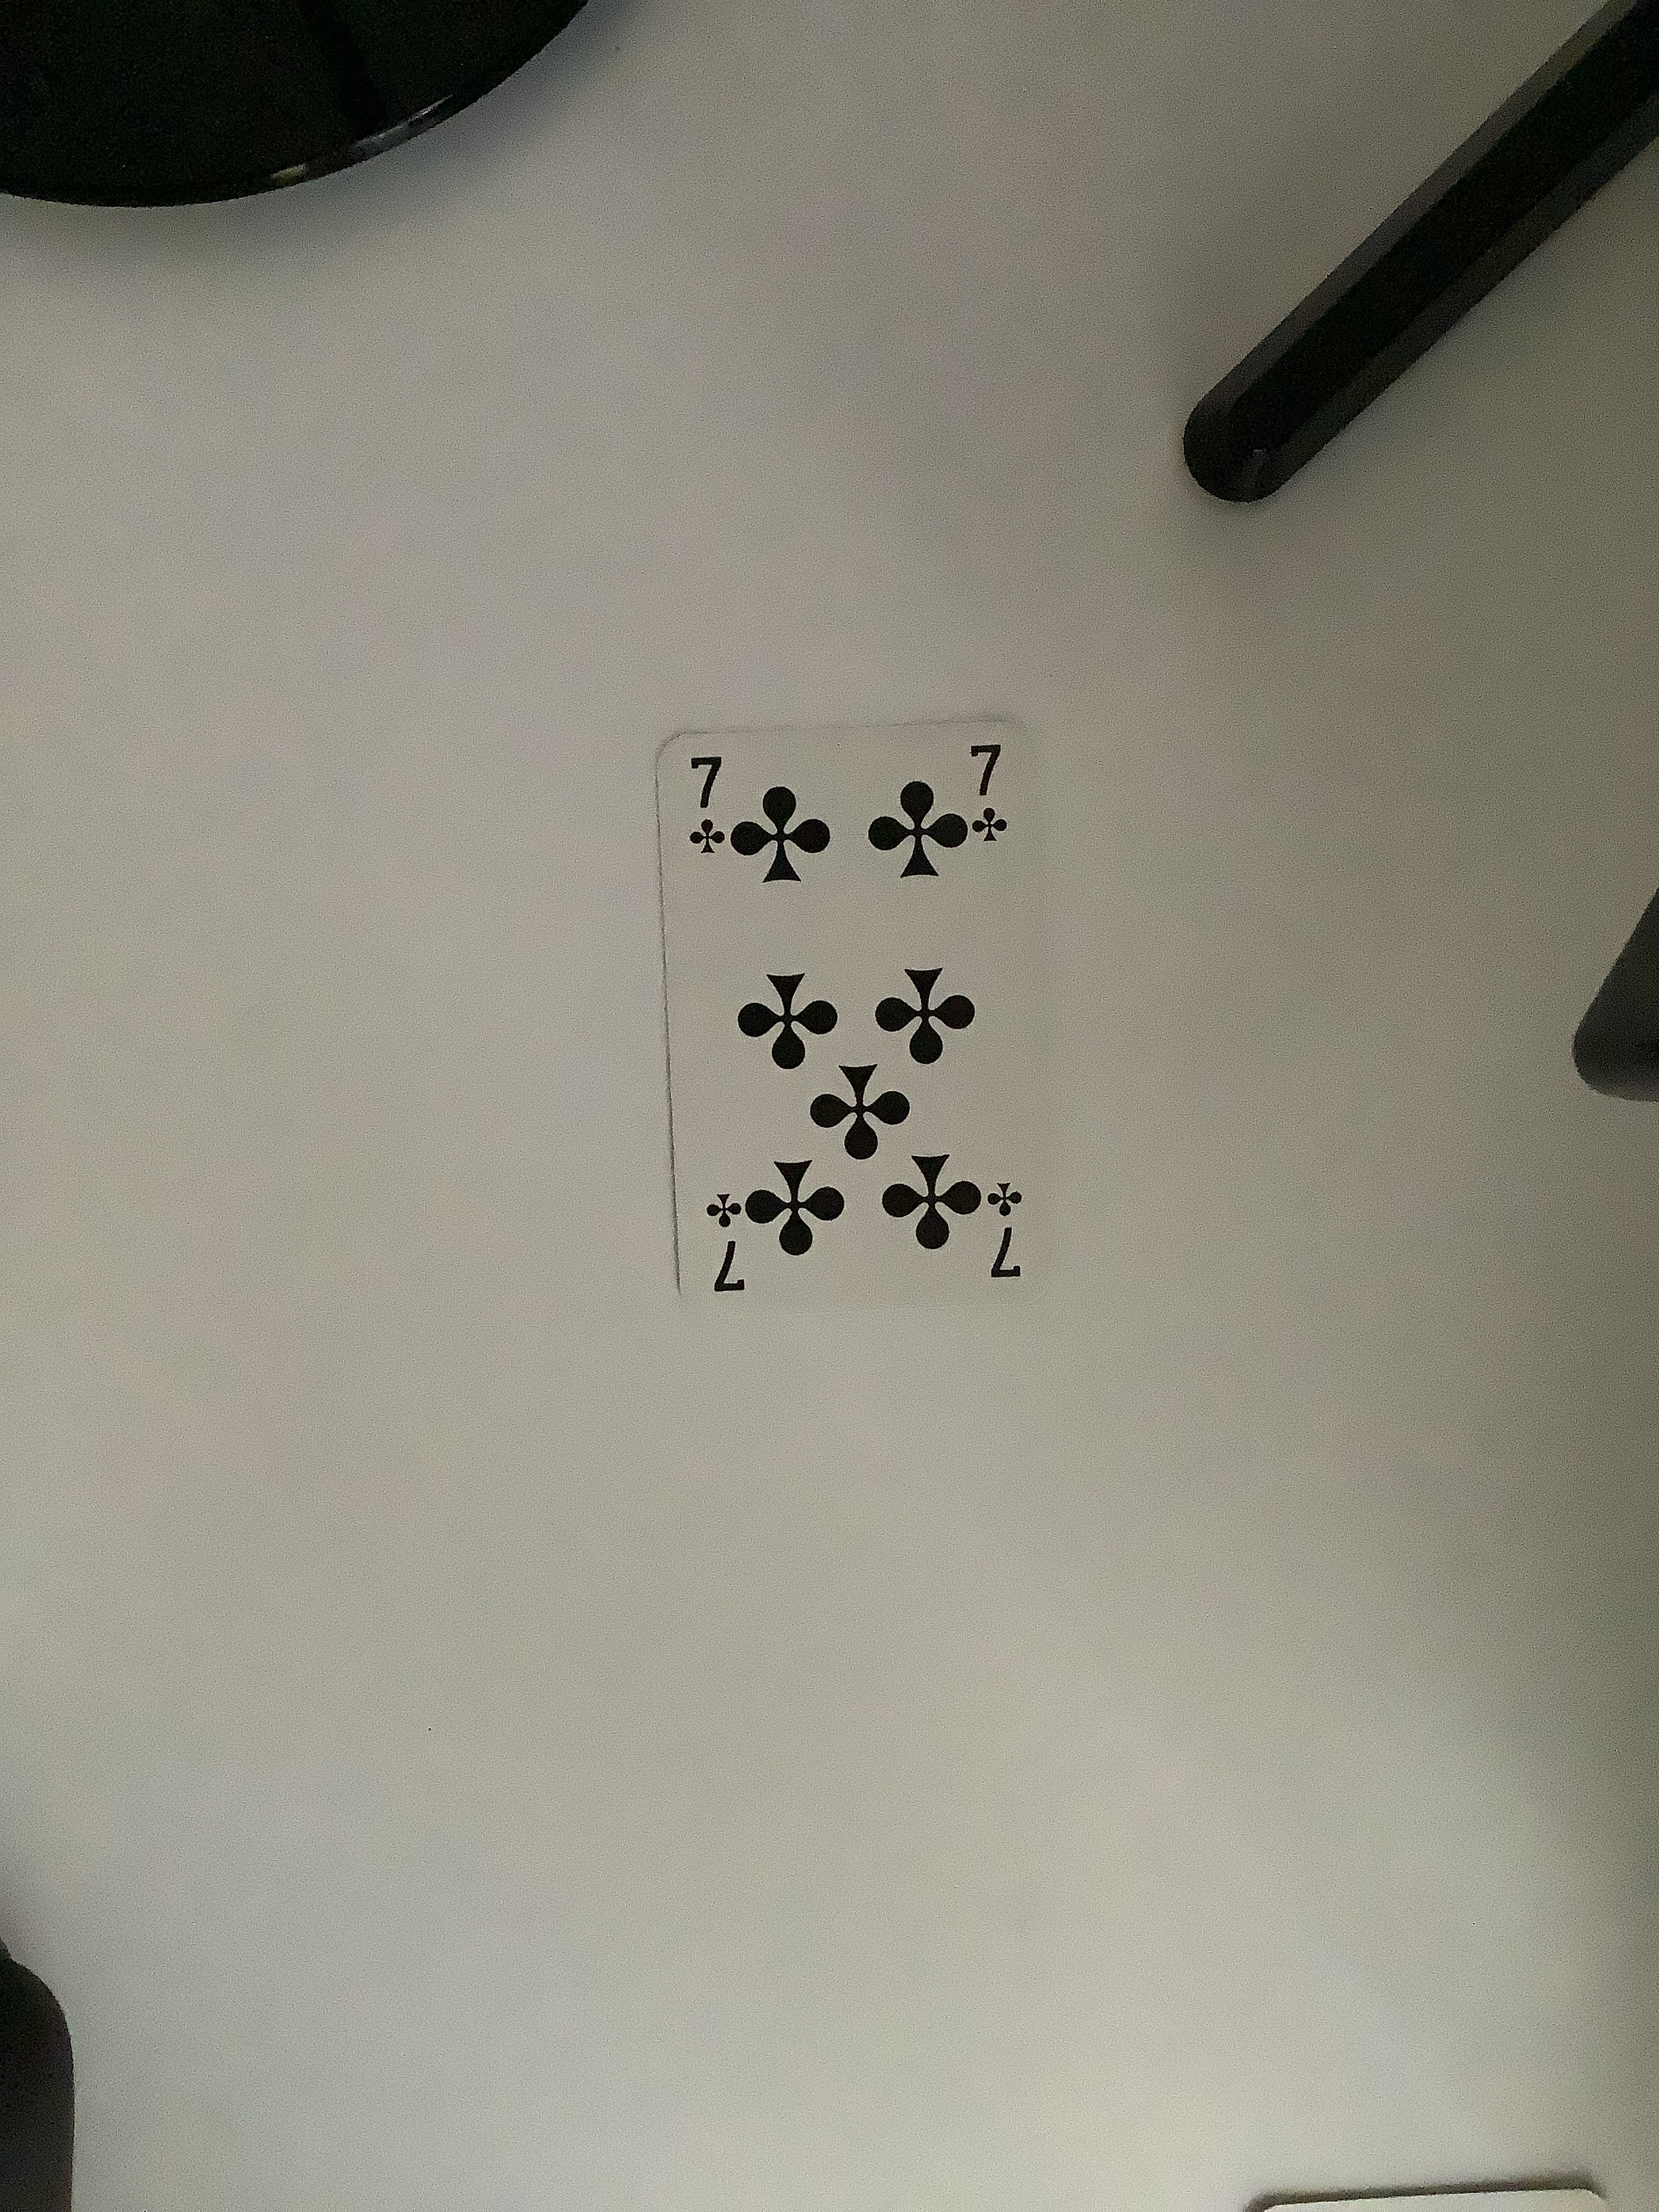♣ 7: (626, 709, 1066, 1341)
